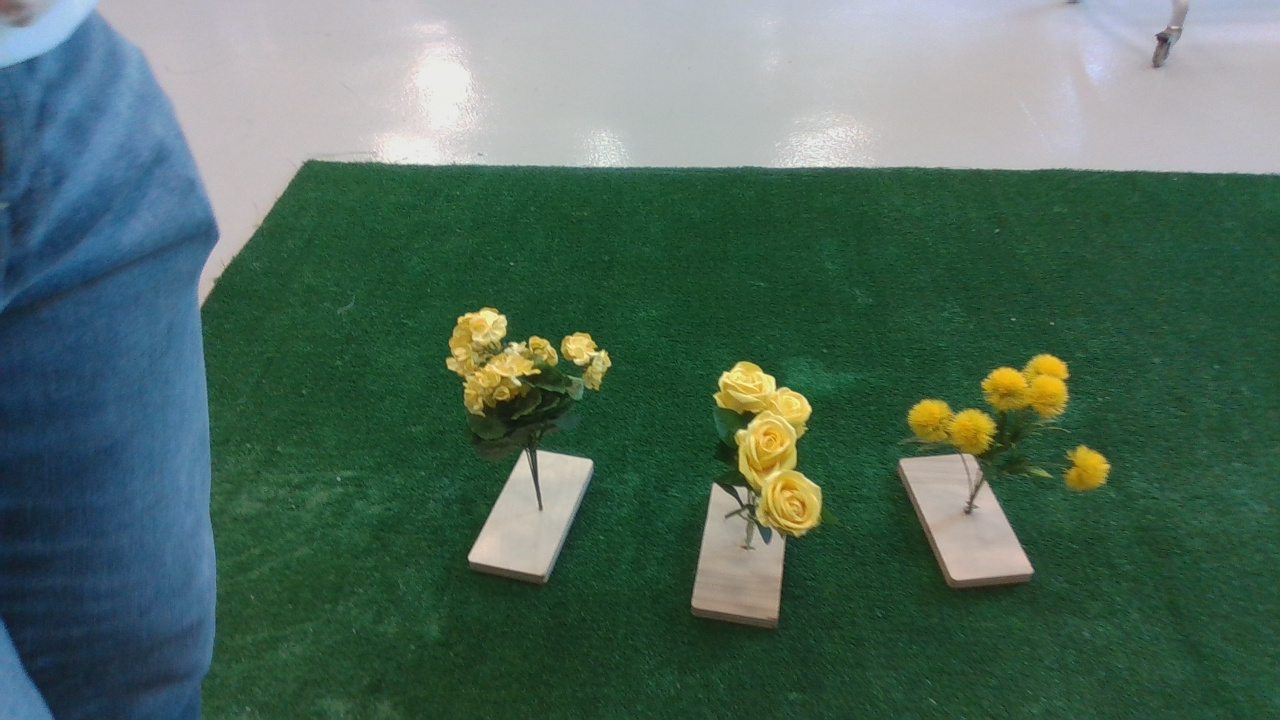dandelion: (907, 349, 1121, 507)
geranium: (435, 296, 627, 461)
rose: (707, 363, 850, 551)
